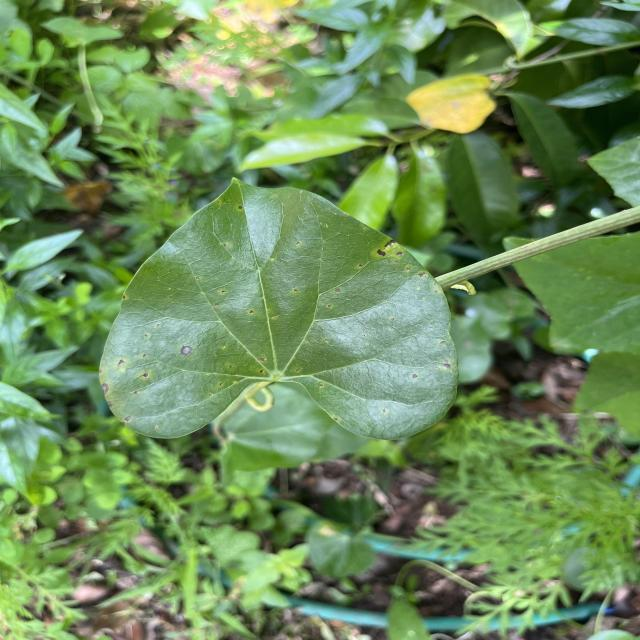Tinospora cordifolia: (94, 172, 466, 444)
